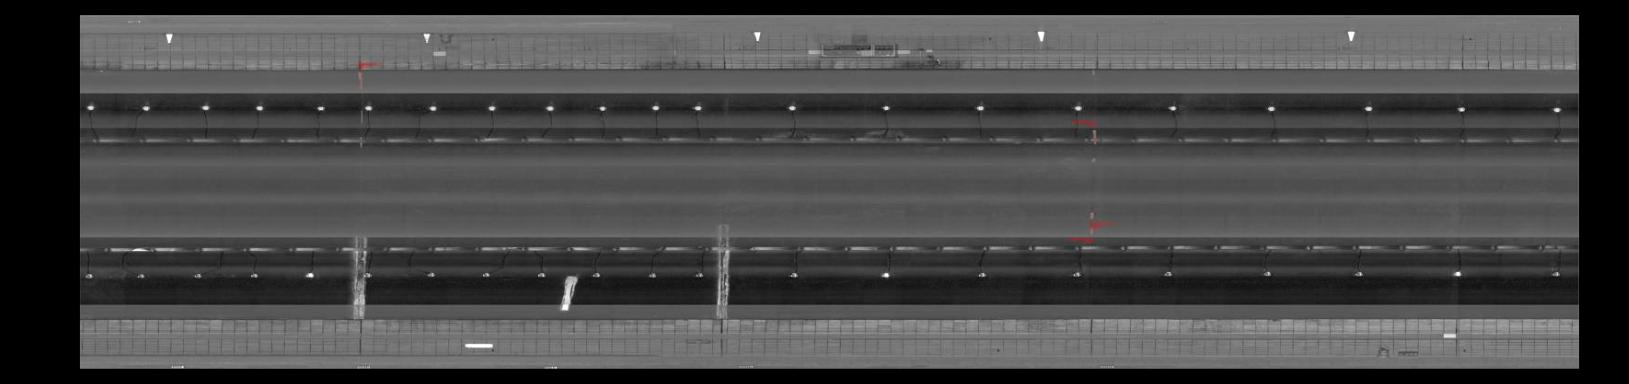light: (781, 101, 805, 114), (875, 267, 897, 281), (1348, 267, 1368, 281), (875, 100, 894, 114), (1546, 266, 1565, 280), (1157, 267, 1177, 280), (1067, 101, 1087, 114), (970, 101, 989, 114), (972, 268, 991, 281), (1449, 266, 1466, 280), (83, 268, 98, 284), (1164, 101, 1181, 114), (1262, 102, 1280, 115), (477, 268, 495, 281), (1257, 267, 1276, 279), (132, 267, 148, 281), (784, 270, 804, 281), (138, 100, 155, 113), (424, 101, 442, 113), (541, 101, 559, 113), (196, 101, 215, 112), (301, 268, 318, 280), (251, 101, 268, 113), (1453, 104, 1473, 114), (1548, 104, 1566, 115), (1359, 103, 1377, 114), (83, 101, 99, 113), (1068, 270, 1085, 281), (691, 270, 707, 281), (647, 102, 664, 113), (245, 269, 262, 280), (360, 100, 377, 111), (689, 101, 706, 111), (532, 270, 550, 280), (587, 269, 602, 281), (595, 101, 610, 113), (645, 270, 661, 281), (424, 270, 439, 281), (312, 102, 327, 113), (484, 102, 500, 113), (190, 270, 205, 281), (362, 270, 376, 280)
